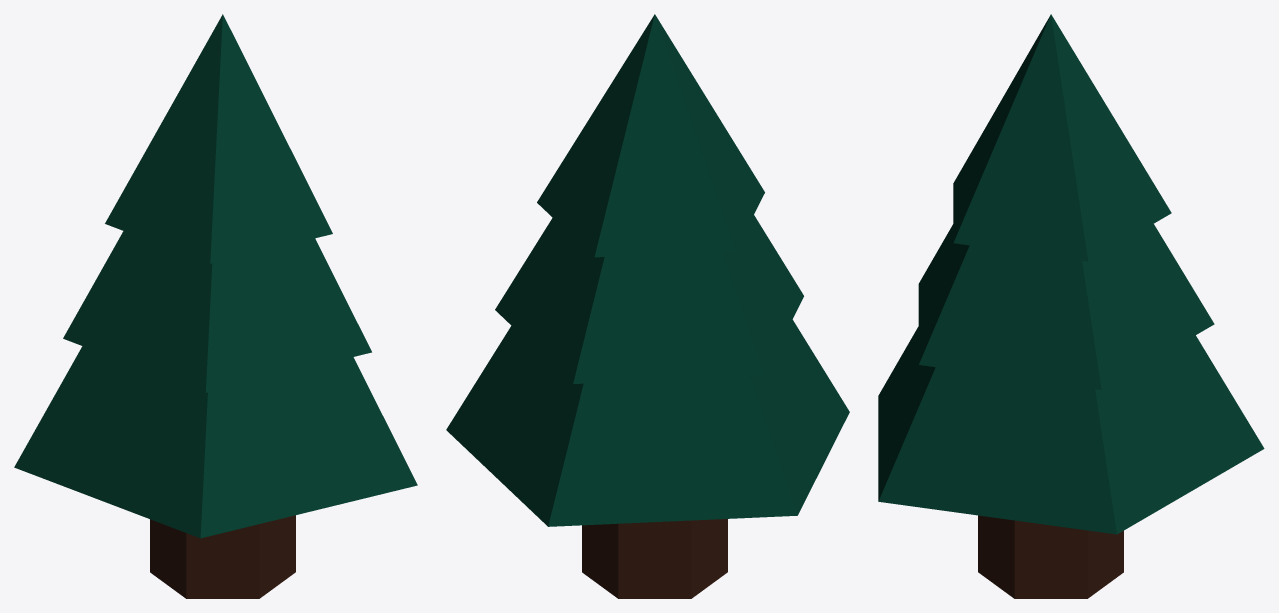
File: LittleTree.fbx
3 views of the same model, side by side, from view 1: azimuth 30°, elevation 25°; view 2: azimuth 150°, elevation 25°; view 3: azimuth 270°, elevation 25° (orthographic).
Visible parts, largest first — view 1: Cone.006; view 2: Cone.006; view 3: Cone.006.
Boxes of the visible parts, box(x1,y1,x2,y2) form: Cone.006: box(14, 14, 417, 598); Cone.006: box(446, 14, 849, 598); Cone.006: box(878, 14, 1264, 598).
Bounding box in the file's own units: 168 × 254 × 159.
